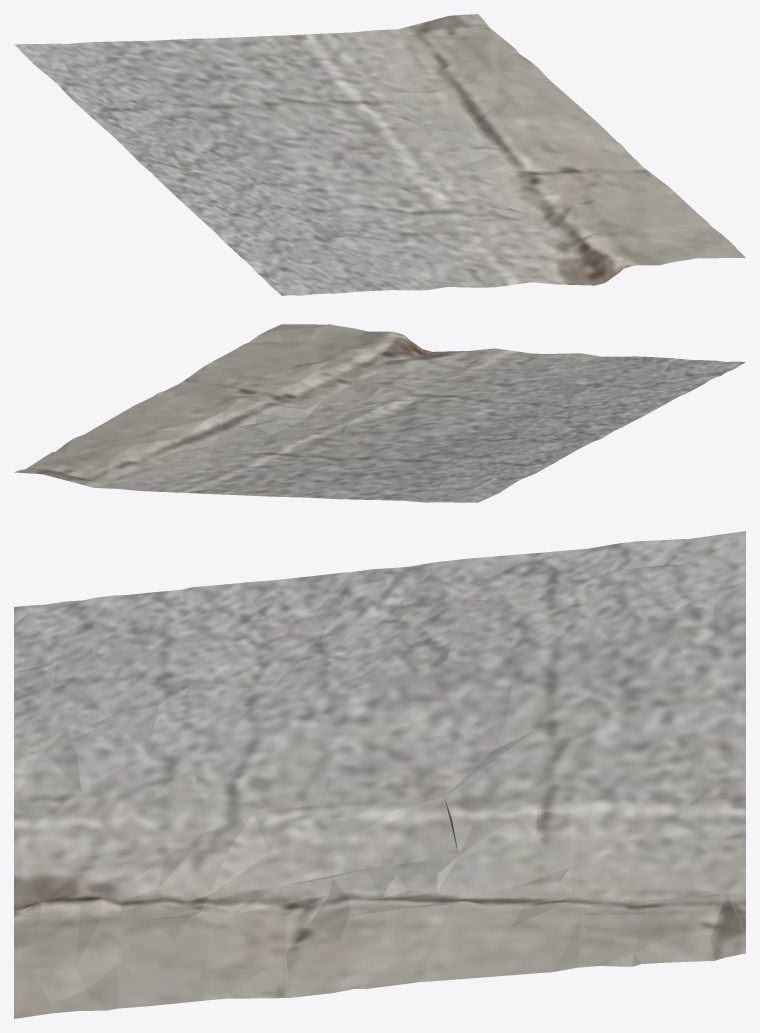
3 renders of one model, top to bottom at view 1: azimuth 30°, elevation 25°; view 2: azimuth 150°, elevation 25°; view 3: azimuth 270°, elevation 25°, orthographic. The views are drawn at different scales.
Bounding box in the file's own units: 1.67 × 0.4509 × 1.67.
3 materials, 3 textured.
